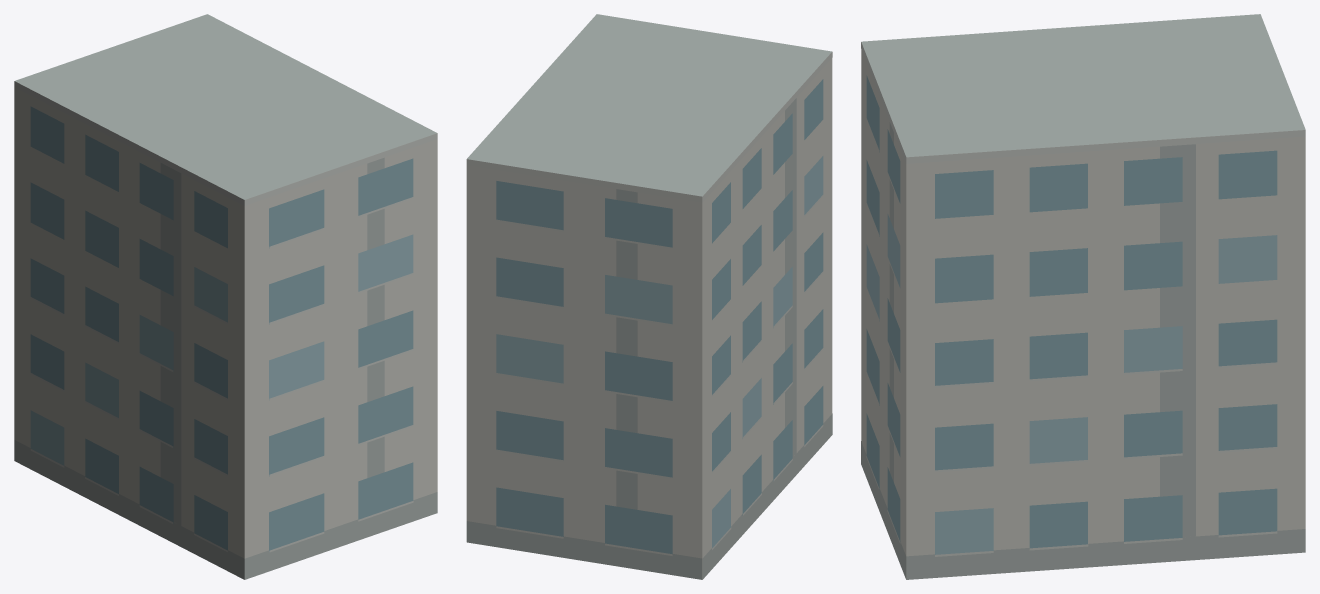
Rendered from survey-upis-32807737.glb.
The picture shows the model from 3 angles, left to right: view 1: azimuth 30°, elevation 25°; view 2: azimuth 150°, elevation 25°; view 3: azimuth 270°, elevation 25°; orthographic projection. The views are drawn at different scales.
Visible parts, largest first — view 1: survey-upis-32807737.tmp; view 2: survey-upis-32807737.tmp; view 3: survey-upis-32807737.tmp.
Part boxes in pixels (x1,y1,x2,y2): survey-upis-32807737.tmp: [14, 14, 437, 579]; survey-upis-32807737.tmp: [466, 14, 832, 579]; survey-upis-32807737.tmp: [861, 14, 1305, 579].
Size of the model in its own units: 11.14 by 15.3 by 14.6.
